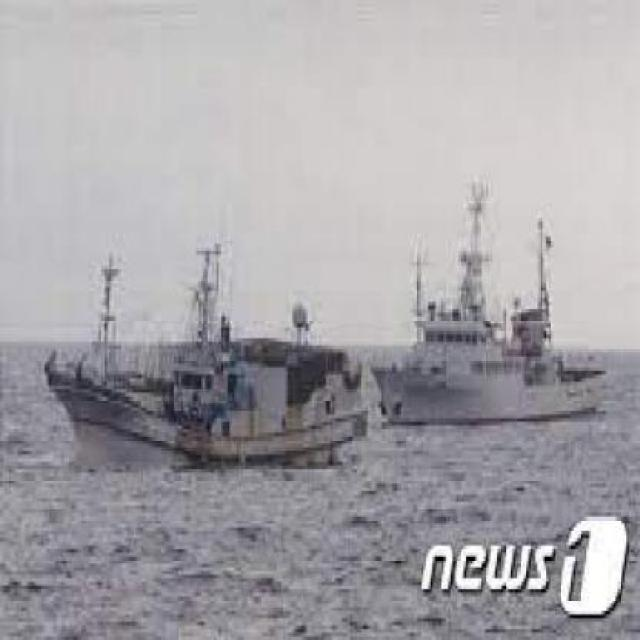fish-b: (27, 267, 378, 481), (366, 193, 619, 441)
